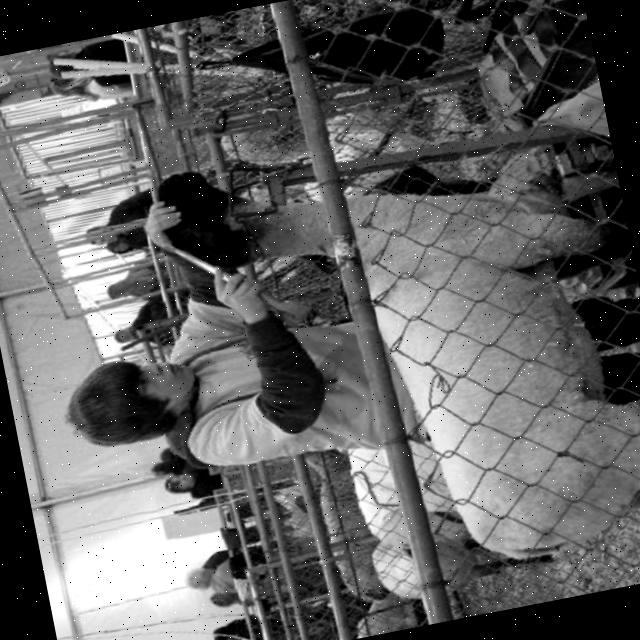sheep: (158, 140, 640, 561)
